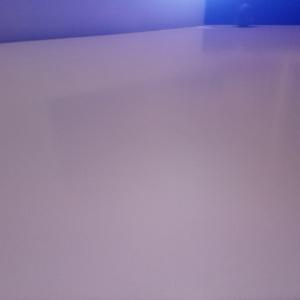dead_ball: (234, 3, 255, 26)
